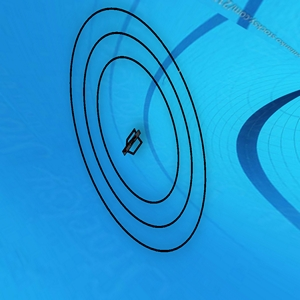circle: (57, 1, 235, 256), (236, 1, 237, 4)
submarine: (119, 126, 142, 159)
